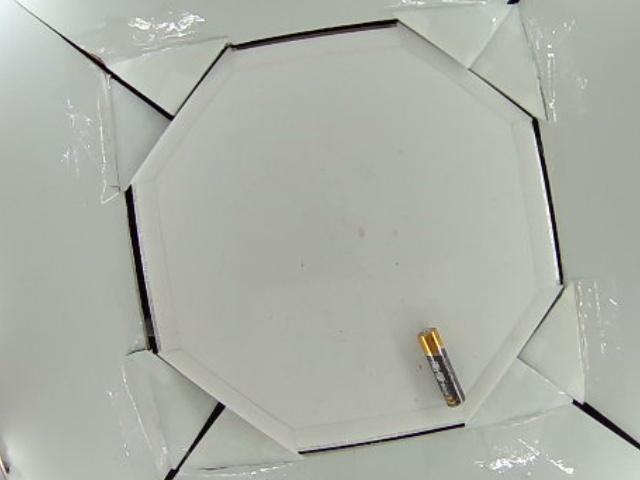Battery: (418, 329, 465, 410)
